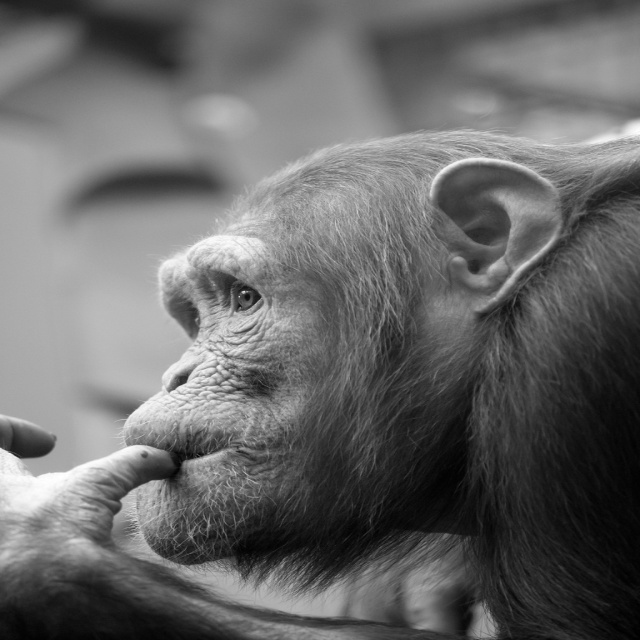Monkey: (114, 123, 640, 622)
